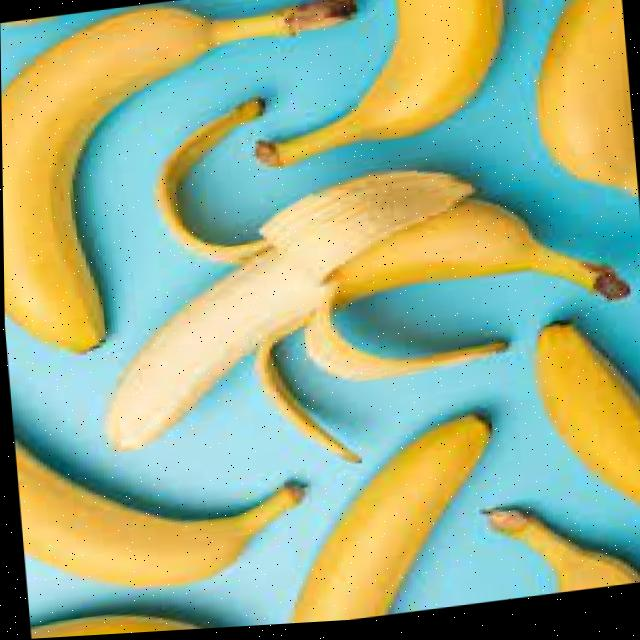Banana: (1, 0, 351, 353), (257, 0, 498, 167), (13, 445, 298, 586), (291, 421, 486, 627), (536, 0, 632, 201), (536, 332, 640, 510)
